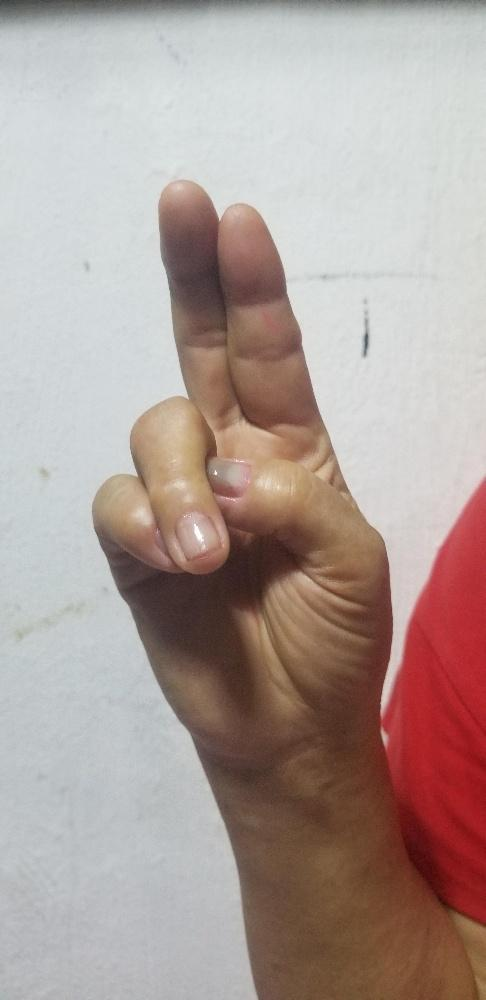r: (89, 176, 395, 732)
